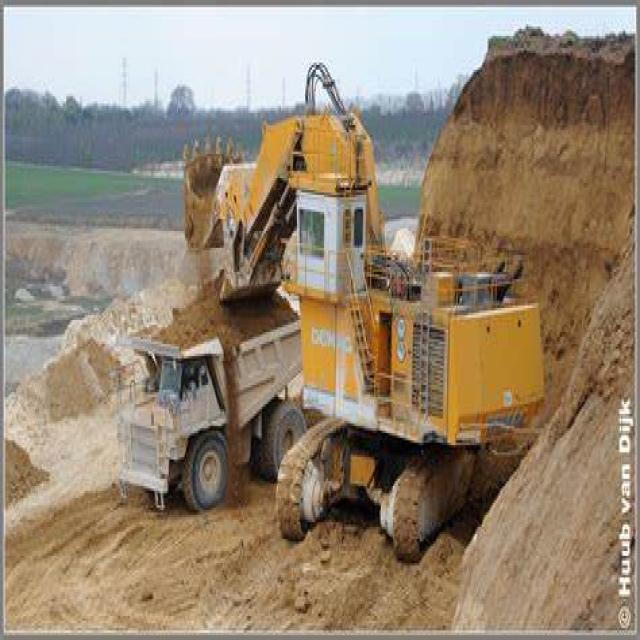dump_truck: (106, 296, 310, 527)
excavator: (188, 72, 544, 556)
